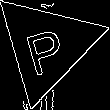P_N: (22, 16, 72, 75)
